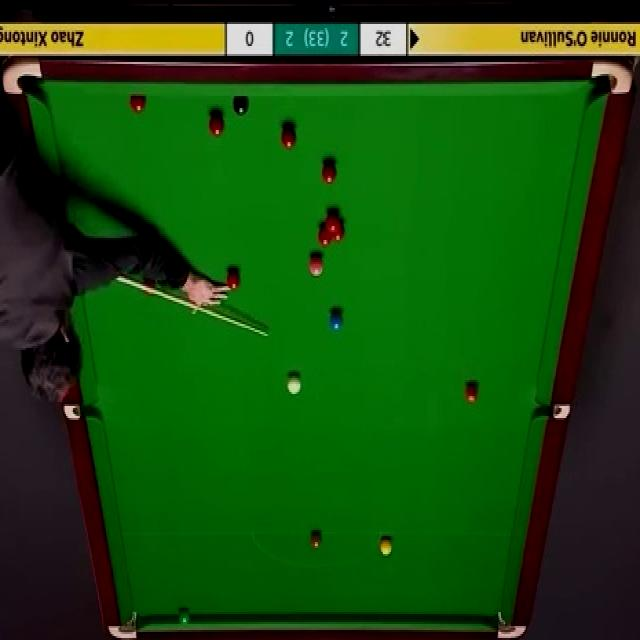black-ball: (233, 97, 250, 117)
blue-ball: (330, 309, 345, 332)
brown-ball: (309, 529, 323, 552)
green-ball: (177, 610, 190, 626)
pink-ball: (309, 255, 324, 281)
red-ball: (281, 123, 297, 151), (208, 112, 225, 138), (321, 160, 336, 185), (465, 381, 479, 405), (129, 95, 145, 114), (227, 267, 239, 291), (326, 210, 339, 232), (318, 225, 331, 247), (332, 228, 344, 241)
white-ball: (286, 372, 302, 398)
yellow-ball: (380, 537, 393, 557)
